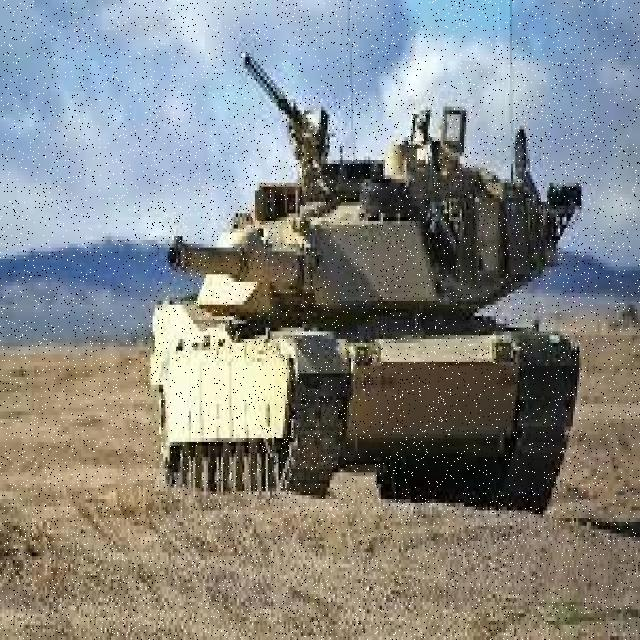MIL_MBT: (147, 96, 586, 518)
